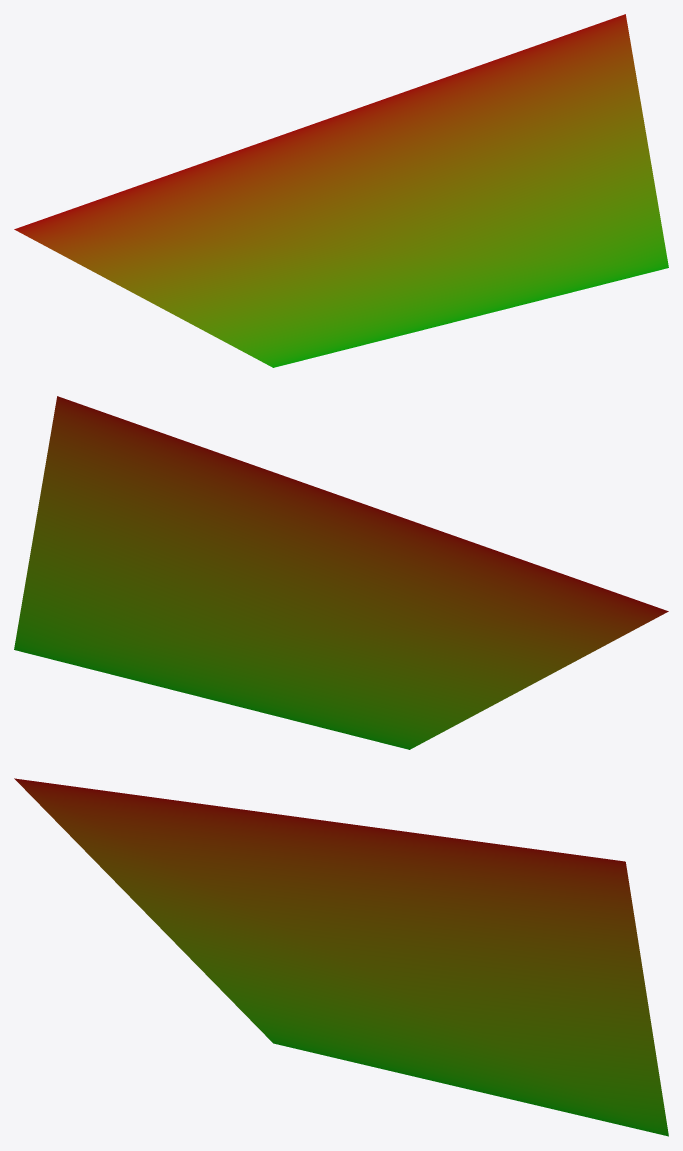
File: Wild Grass_LOD4_Var14_vczndjqja.fbx
3 views of the same model, one above another, from view 1: azimuth 30°, elevation 25°; view 2: azimuth 150°, elevation 25°; view 3: azimuth 330°, elevation 25° (orthographic).
Visible parts, largest first — view 1: _mpv6_Var14_LOD4; view 2: _mpv6_Var14_LOD4; view 3: _mpv6_Var14_LOD4.
Part boxes in pixels (x1,y1,x2,y2): _mpv6_Var14_LOD4: [14, 14, 668, 367]; _mpv6_Var14_LOD4: [14, 396, 668, 749]; _mpv6_Var14_LOD4: [14, 778, 668, 1136].
Size of the model in its own units: 27.01 by 10.56 by 2.91e-11.
